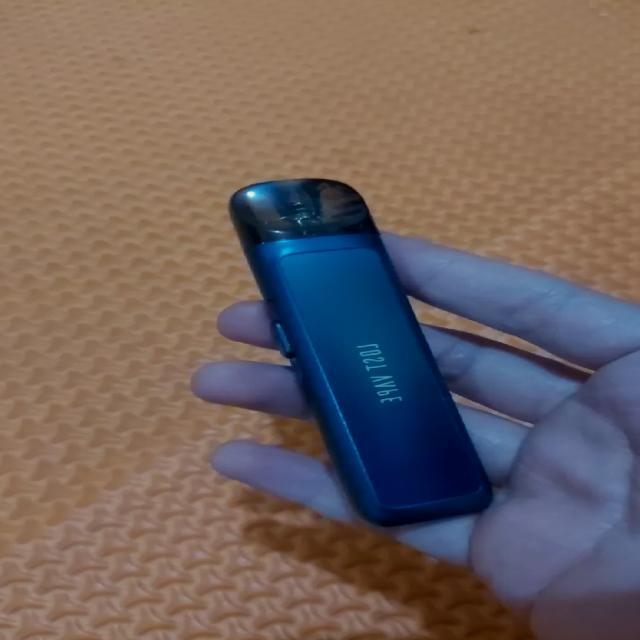Hazard: (228, 178, 498, 532)
